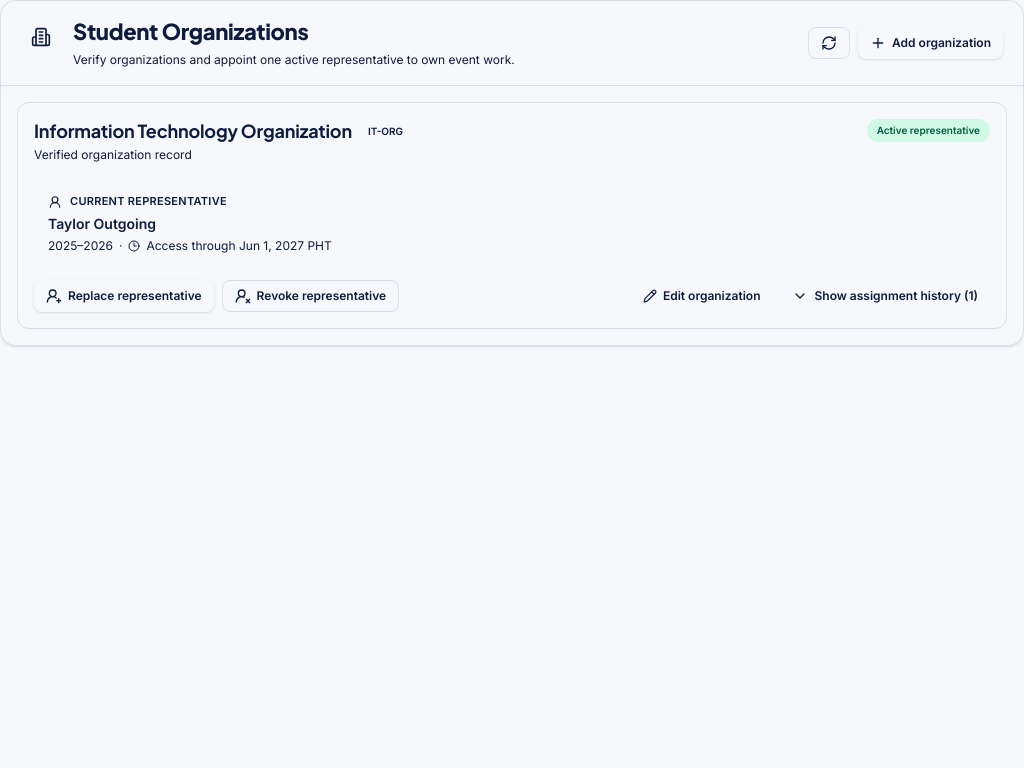
Scenario: AdminOrganizationsPanel › does not offer replacement when there is no other active Student Org account
The width and height of the screenshot is (1024, 768).
Click the button "Replace representative": (124, 296) top-left (34, 280), bottom-right (214, 312)
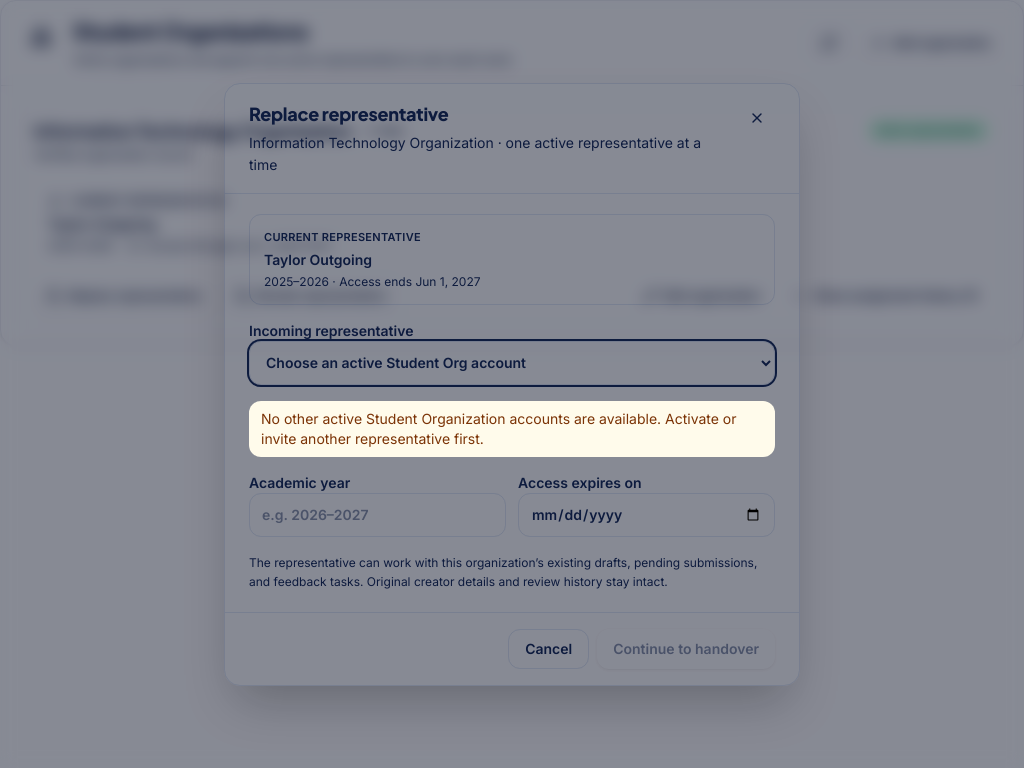
Expected: the text "No other active Student Organization accounts are available" is shown, top-left (261, 410), bottom-right (736, 446)
Expected: the button "Continue to handover" is disabled, top-left (597, 628), bottom-right (775, 668)
